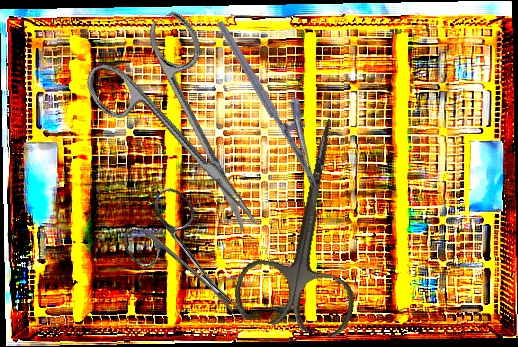Iris Scissors: (75, 6, 299, 263), (228, 106, 391, 341), (113, 182, 270, 342)
Needle Holder: (215, 7, 341, 189)
